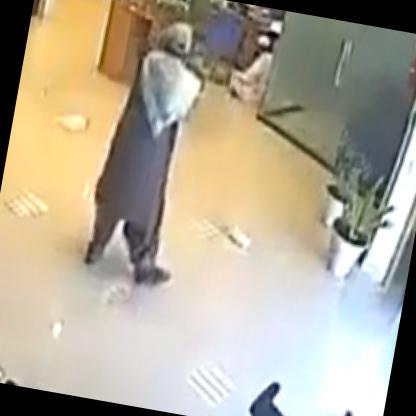Human Body: (69, 5, 222, 301)
